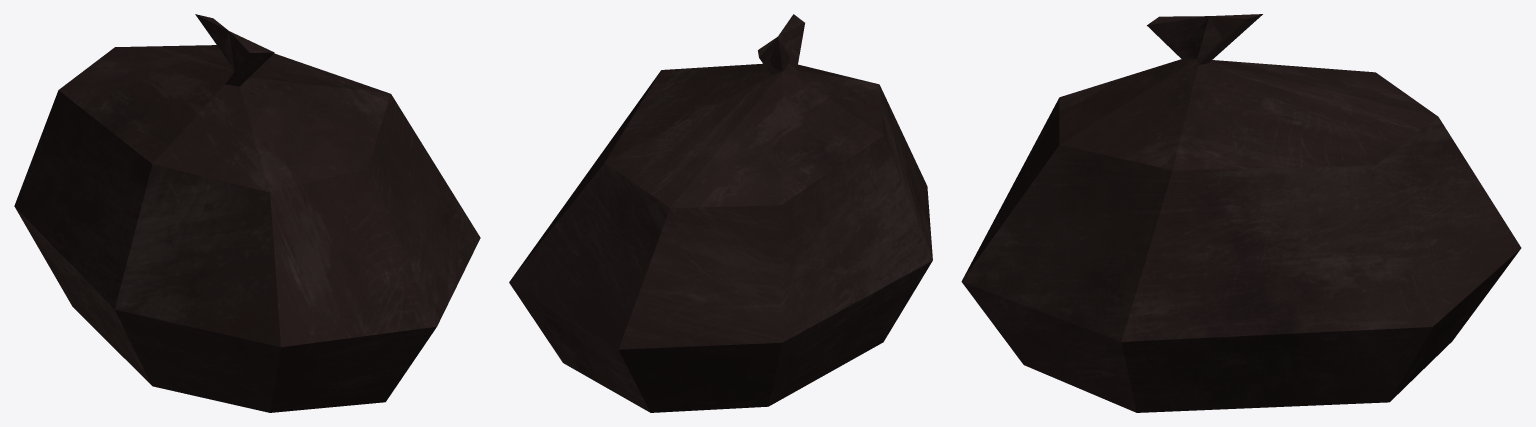
Rendered from Trash.fbx.
The picture shows the model from 3 angles, left to right: view 1: azimuth 30°, elevation 25°; view 2: azimuth 150°, elevation 25°; view 3: azimuth 270°, elevation 25°; orthographic projection. The views are drawn at different scales.
Visible parts, largest first — view 1: Sphere; view 2: Sphere; view 3: Sphere.
Boxes of the visible parts, left/top/right/bottom form: Sphere: left=14, top=14, right=480, bottom=412; Sphere: left=509, top=14, right=932, bottom=412; Sphere: left=961, top=14, right=1521, bottom=412.
Size of the model in its own units: 149 by 131 by 208.
